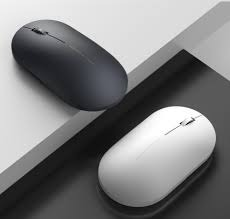mouse: (92, 105, 217, 209), (11, 22, 130, 111)
